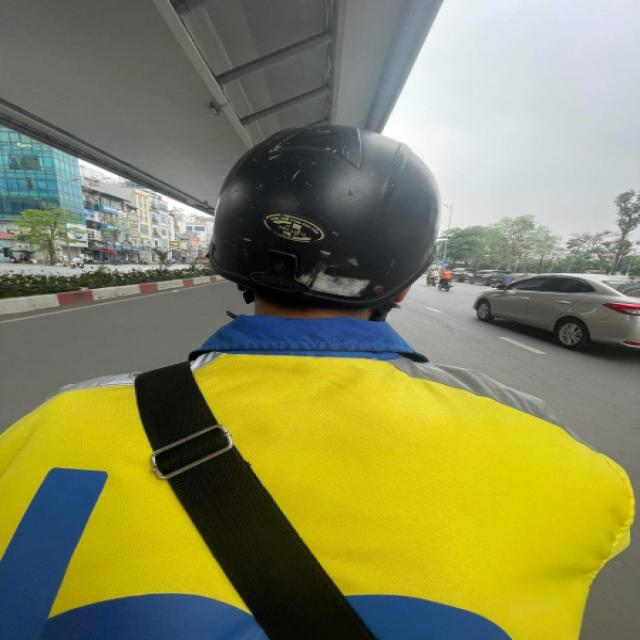Helmet: (205, 106, 439, 334)
